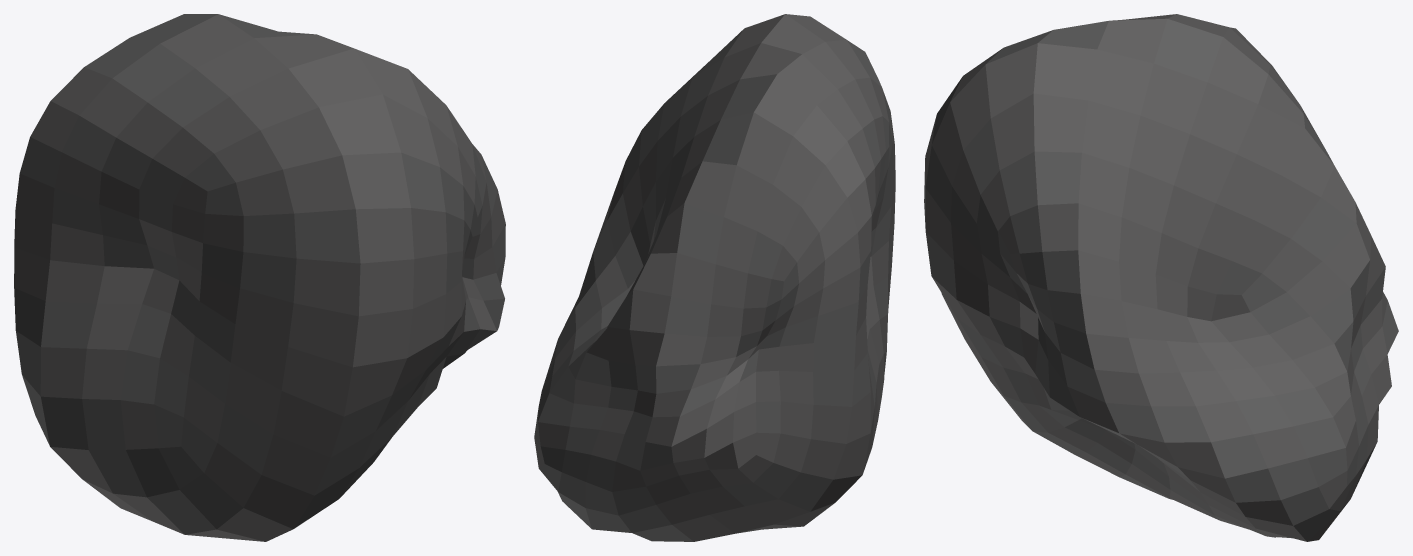
File: rock6.fbx
3 views of the same model, side by side, from view 1: azimuth 30°, elevation 25°; view 2: azimuth 150°, elevation 25°; view 3: azimuth 270°, elevation 25° (orthographic). The views are drawn at different scales.
Parts seen in each view (by area): view 1: rock6; view 2: rock6; view 3: rock6.
Part boxes in pixels (x1,y1,x2,y2): rock6: (14,14,505,541); rock6: (534,14,895,541); rock6: (924,14,1398,541).
Size of the model in its own units: 131 by 170 by 152.
